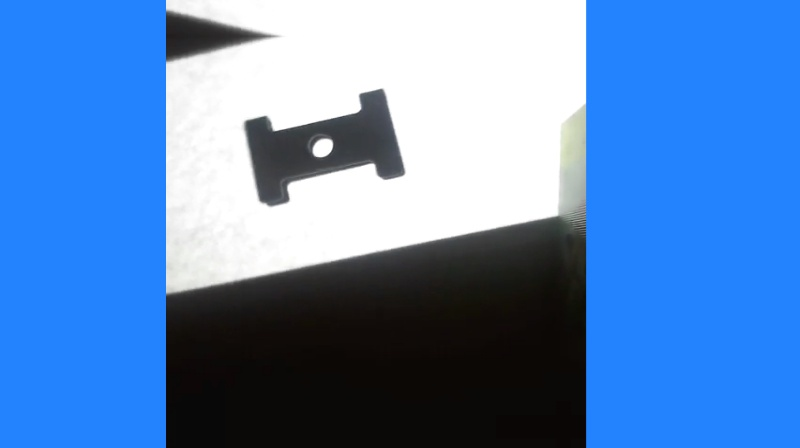O002: (243, 85, 409, 207)
